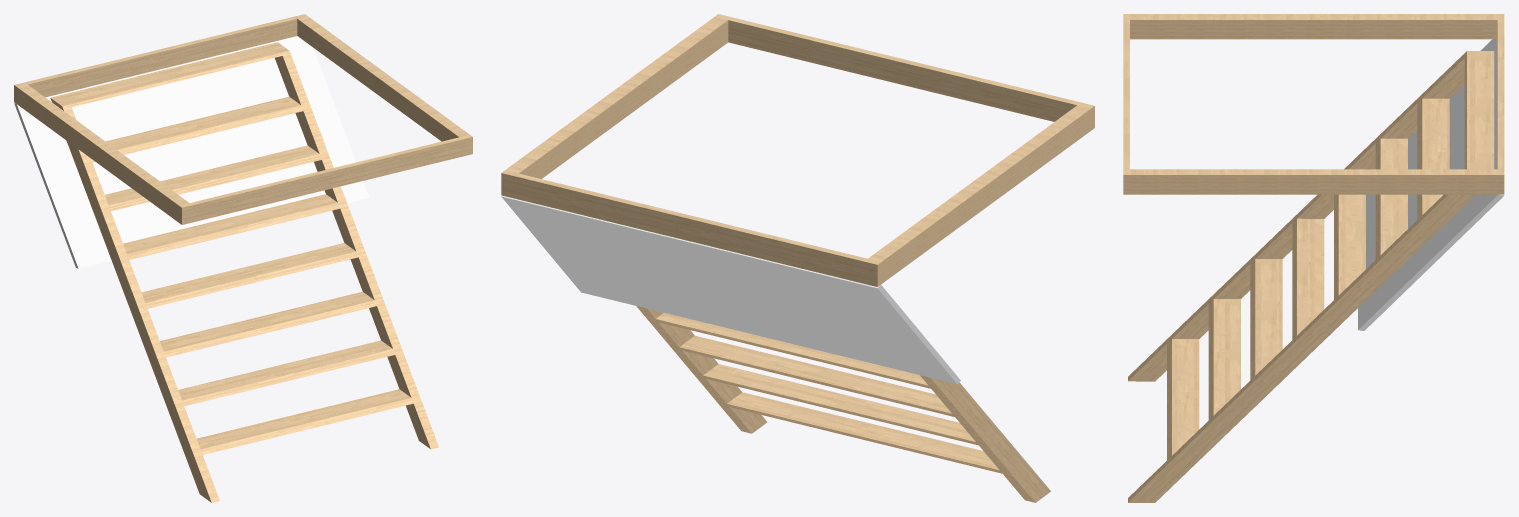
Rendered from sh-contrib-stair-ladder-loft.glb.
The picture shows the model from 3 angles, left to right: view 1: azimuth 30°, elevation 25°; view 2: azimuth 150°, elevation 25°; view 3: azimuth 270°, elevation 25°; orthographic projection. The views are drawn at different scales.
Visible parts, largest first — view 1: 1, 22; view 2: 1, 22; view 3: 1, 22.
Boxes of the visible parts, bbox=[...] form: 1: bbox=[14, 14, 472, 502]; 22: bbox=[14, 36, 369, 268]; 1: bbox=[501, 14, 1094, 502]; 22: bbox=[501, 195, 960, 384]; 1: bbox=[1123, 14, 1504, 502]; 22: bbox=[1358, 35, 1504, 330].
Size of the model in its own units: 1 by 1 by 1.
2 materials, 1 textured.
